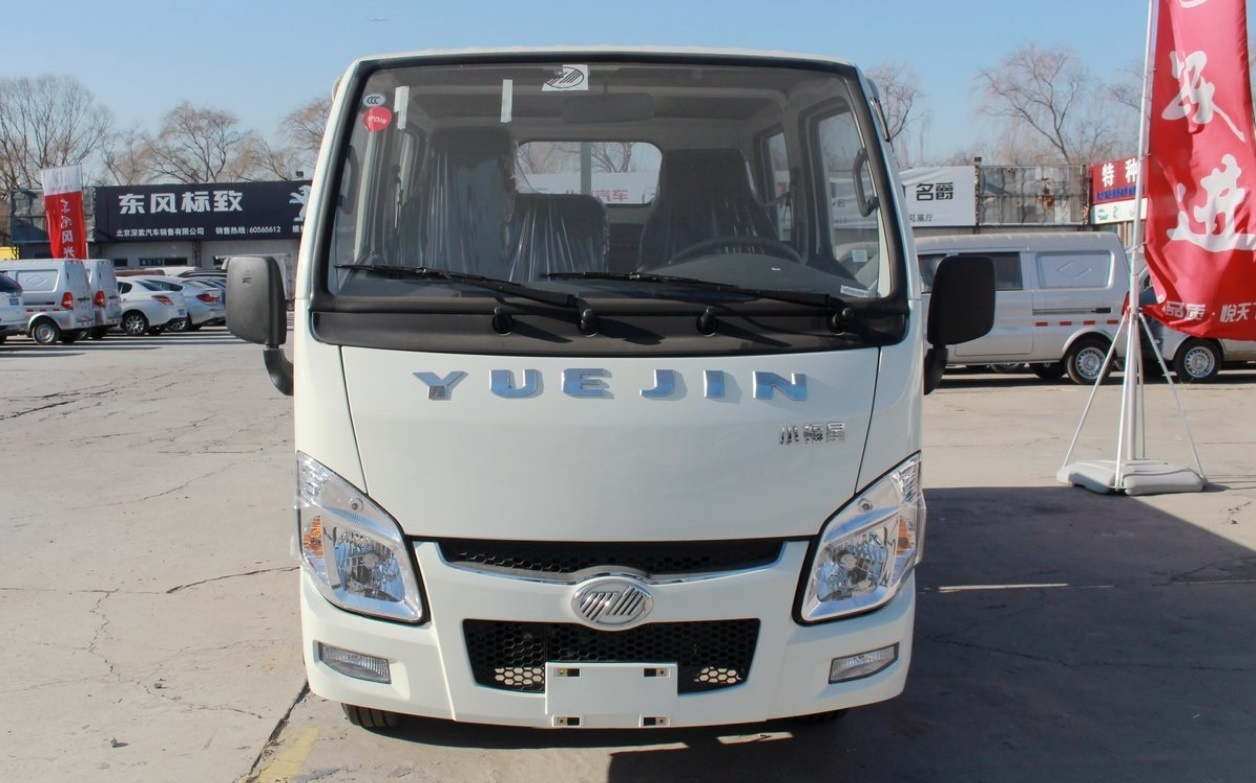truck: (233, 34, 968, 766)
